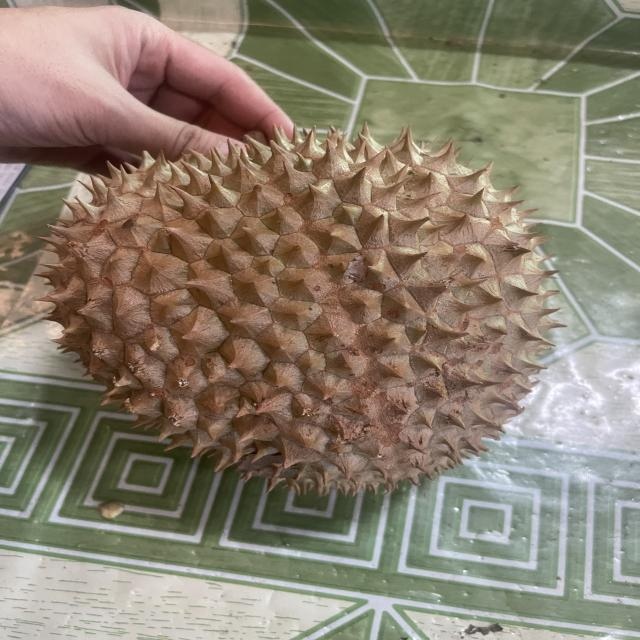mature: (40, 129, 579, 512)
